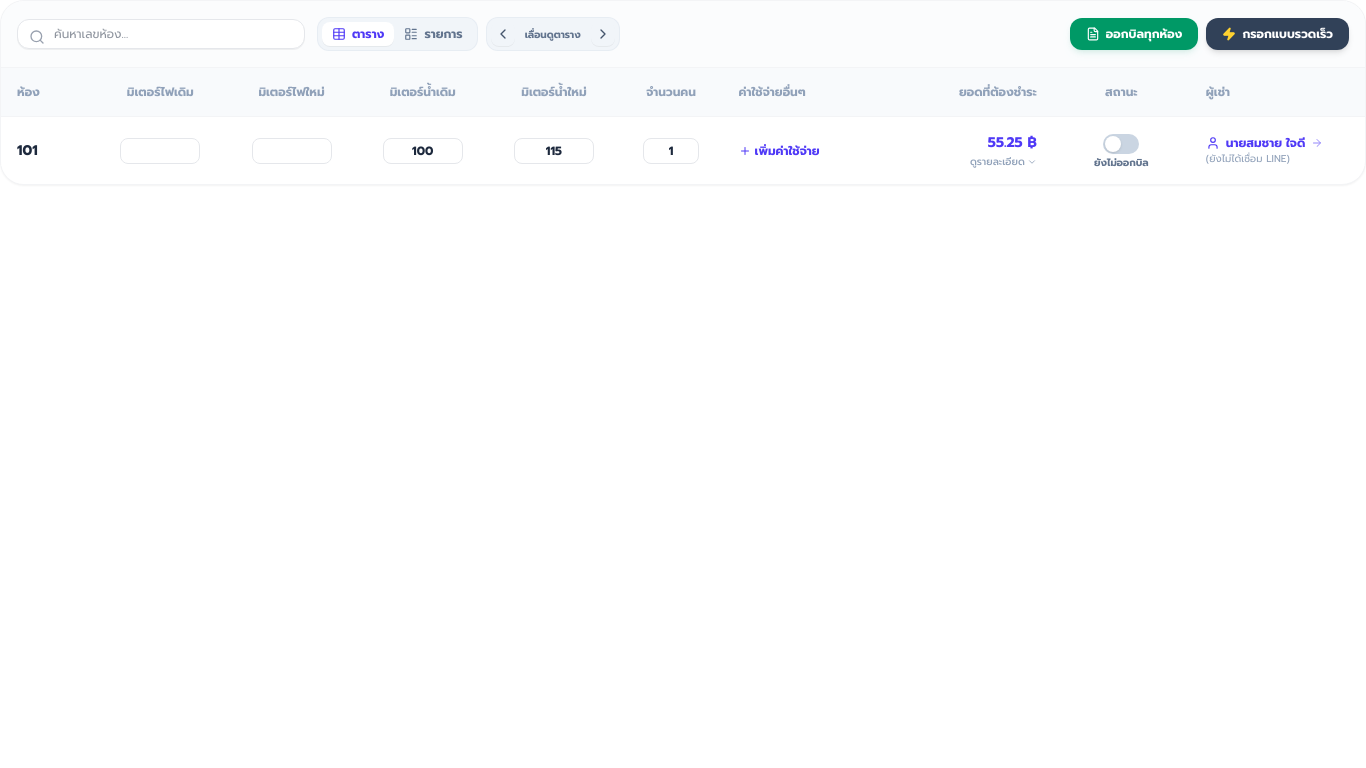
Test: OWNER R3.9-E.1A — Tiered Meter Workspace Suite › Owner Meter Workspace: Table & List Integration › Section 18 & 19: List Mode dirty-after-save regression: Server preview 55.25 is overridden by unsaved 100->120 (76.50), then restored on revert
Check: the row with test id "meter-row-room-101" is shown, box [1, 116, 1365, 184]
# Switch to List Mode
Click the button with test id "view-mode-list-button": (434, 34) [394, 22, 473, 46]
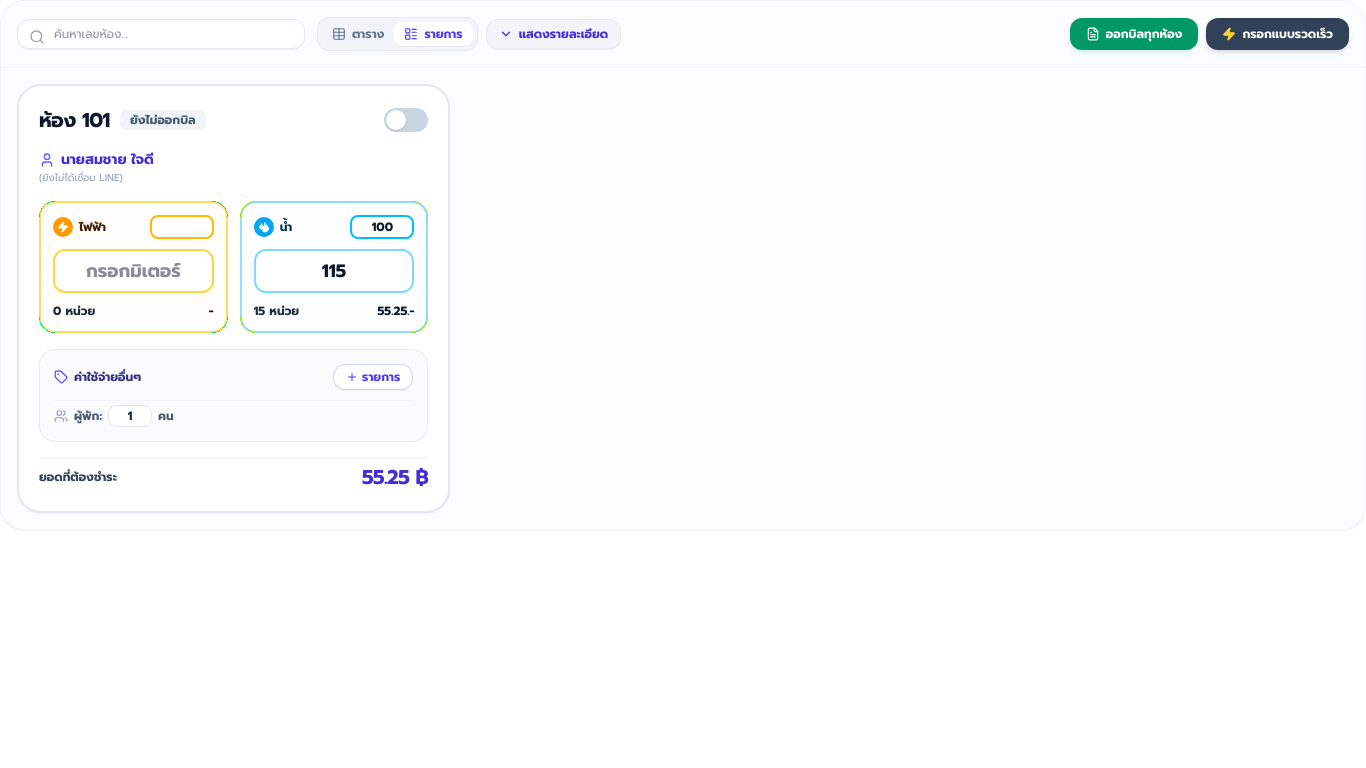
Check: the text "55.25 ฿" is shown, box [362, 462, 428, 490]
Check: the element with test id "meter-list-card-room-101" is shown, box [17, 84, 450, 512]
Check: the text "55.25.-" is shown, box [377, 302, 414, 318]
Replace the text in the 5th field with "120": (334, 270) [254, 248, 414, 292]
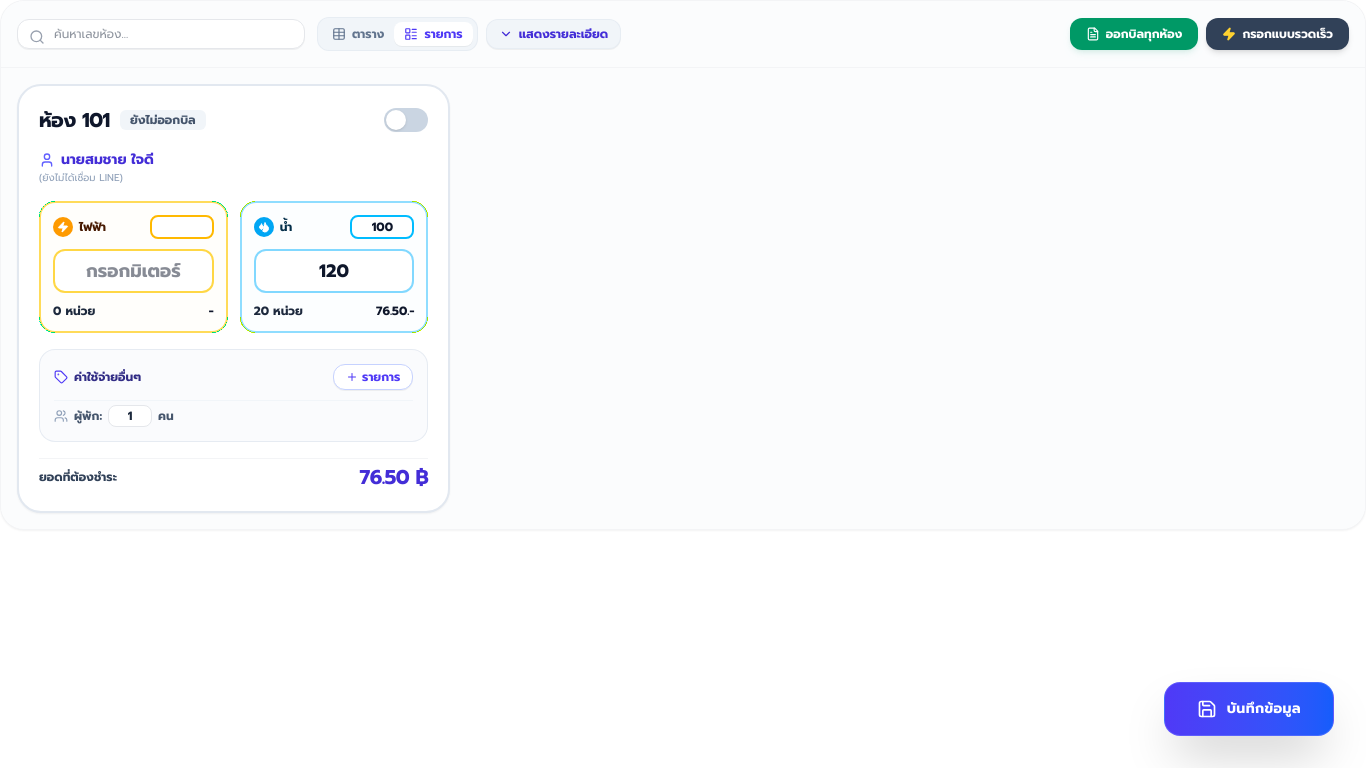
Check: the text "76.50.-" is shown, box [376, 302, 414, 318]
Check: the text "76.50 ฿" is shown, box [360, 462, 428, 490]
# Revert back to 115
Replace the text in the 5th field with "115": (334, 270) [254, 248, 414, 292]
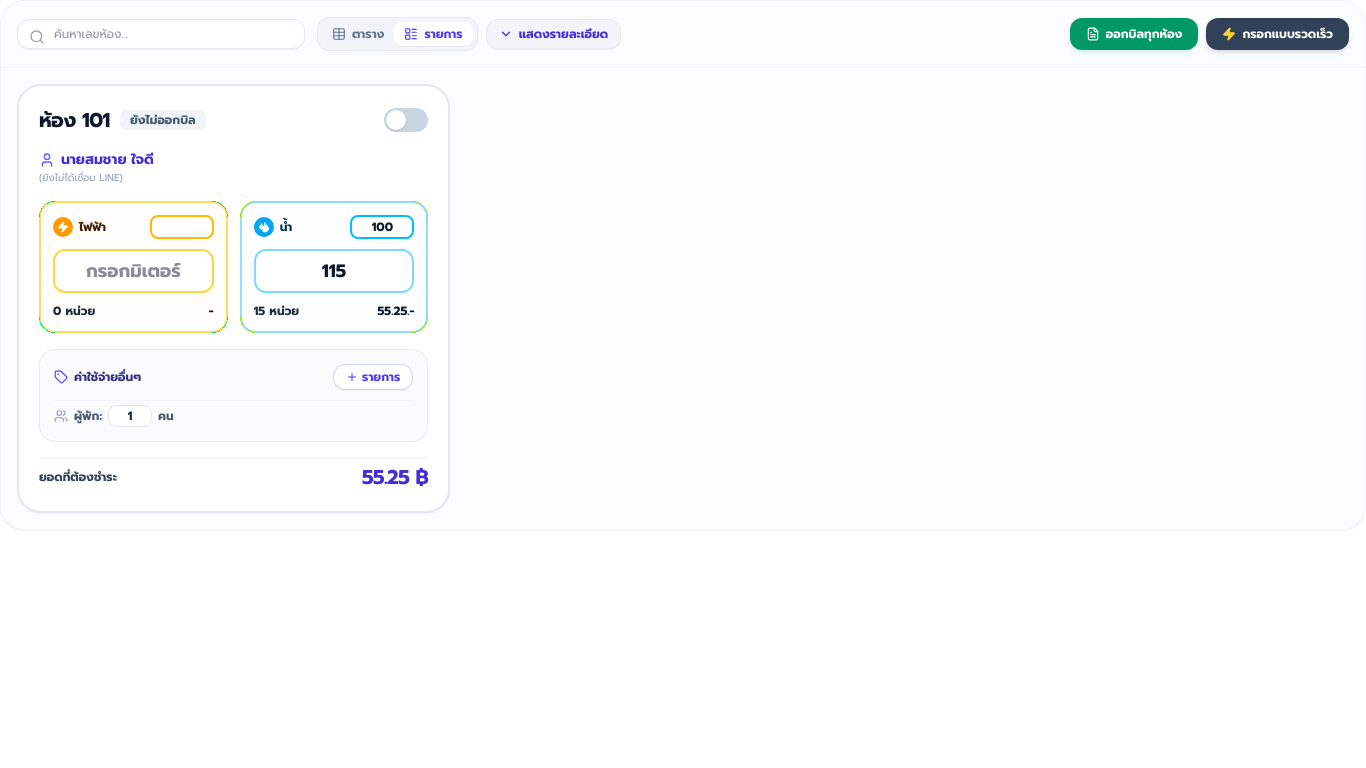
Check: the text "55.25.-" is shown, box [377, 302, 414, 318]
Check: the text "55.25 ฿" is shown, box [362, 462, 428, 490]
